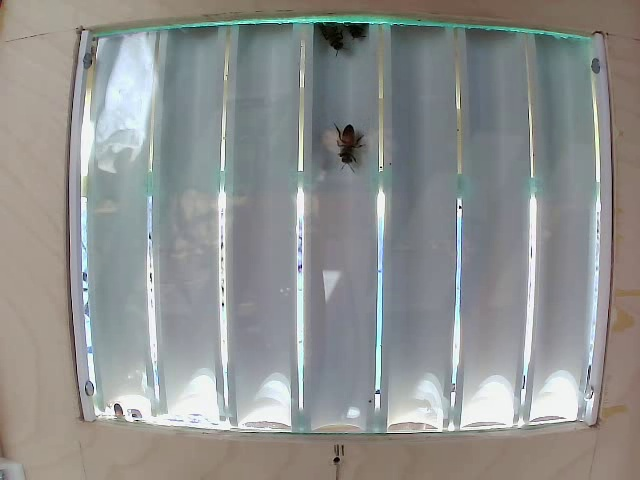bee: (327, 115, 371, 192), (315, 7, 346, 63)
